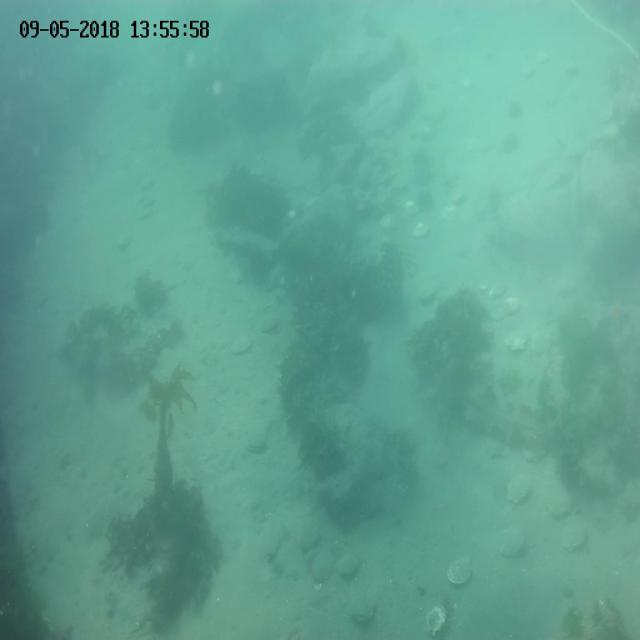scallop: (503, 471, 535, 507), (496, 524, 526, 558), (444, 555, 474, 587), (424, 604, 450, 640), (347, 596, 378, 624), (310, 552, 333, 586), (561, 526, 587, 556), (546, 489, 574, 515), (503, 330, 532, 353), (227, 332, 254, 354), (245, 432, 268, 457), (334, 554, 359, 577), (298, 527, 321, 551), (482, 438, 507, 458), (438, 204, 458, 223), (377, 212, 398, 230), (506, 295, 524, 315), (402, 199, 422, 216), (410, 222, 431, 238), (488, 282, 506, 300), (419, 288, 435, 302), (489, 308, 505, 321)
